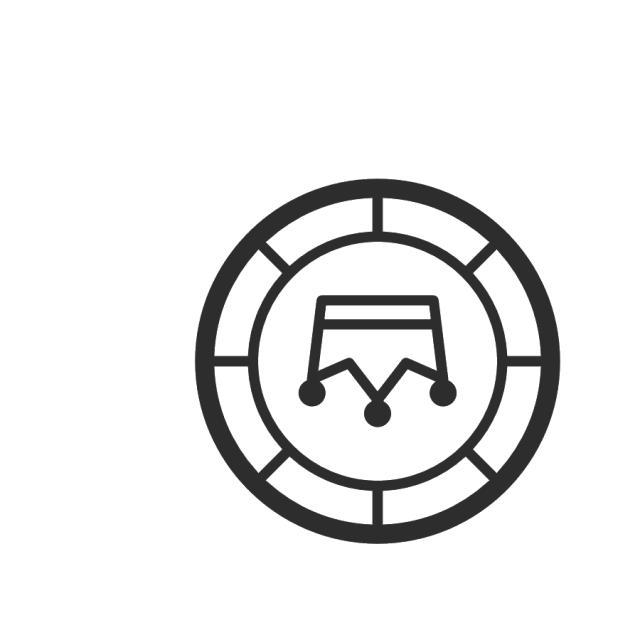coin: (188, 173, 567, 555)
